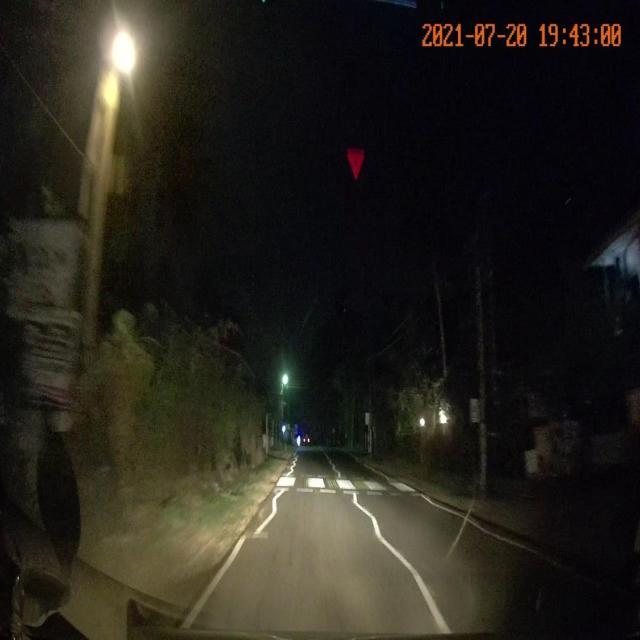Crosswalk: (270, 474, 432, 498)
